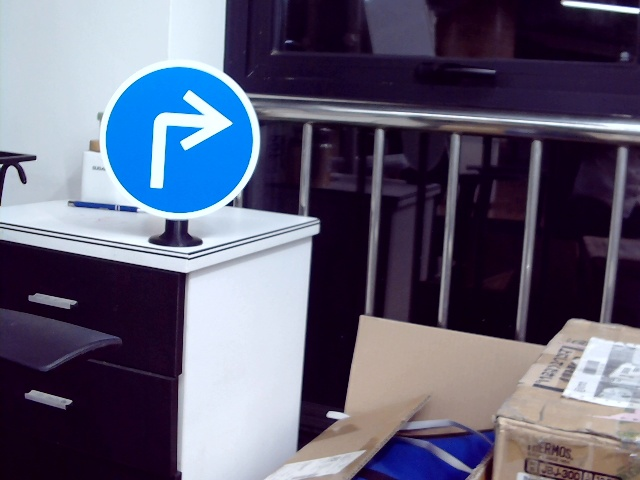turn_right: (143, 91, 228, 191)
